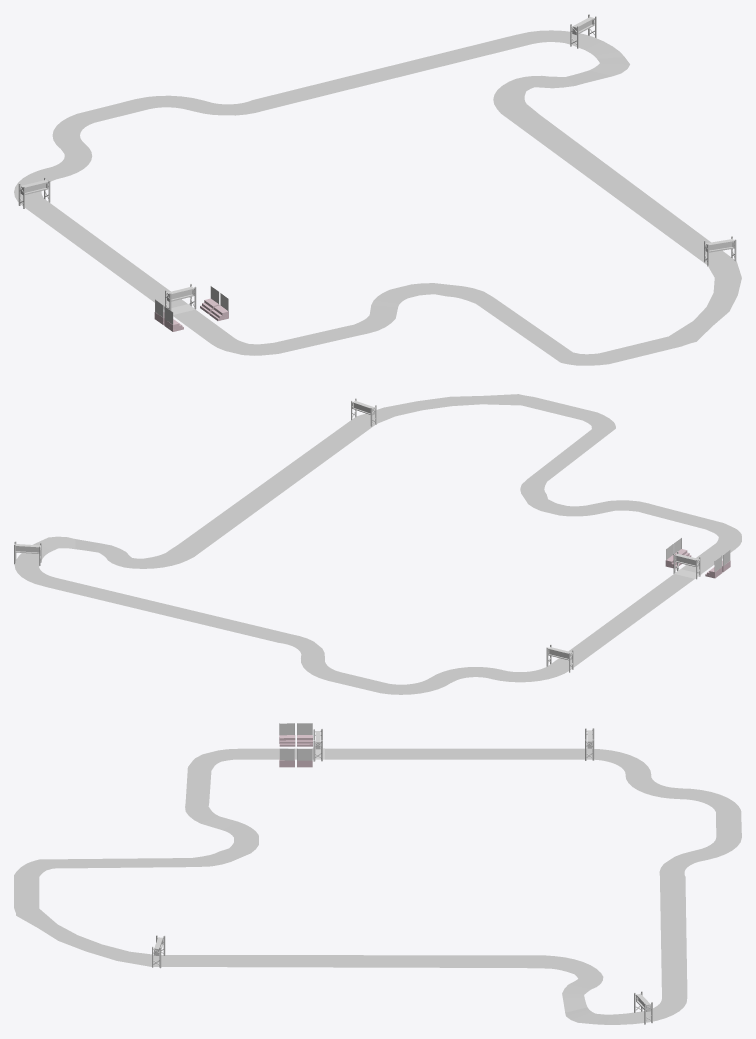
Rendered from 2Pistahh.fbx.
The picture shows the model from 3 angles, top to bottom: view 1: azimuth 30°, elevation 25°; view 2: azimuth 150°, elevation 25°; view 3: azimuth 270°, elevation 25°; orthographic projection. The views are drawn at different scales.
Parts seen in each view (by area): view 1: Plane.005; view 2: Plane.005; view 3: Plane.005.
Part boxes in pixels (<box>): Plane.005: <box>14,30,741,365</box>; Plane.005: <box>14,394,741,694</box>; Plane.005: <box>14,748,741,1024</box>.
Bounding box in the file's own units: 26222 × 903 × 28449.
